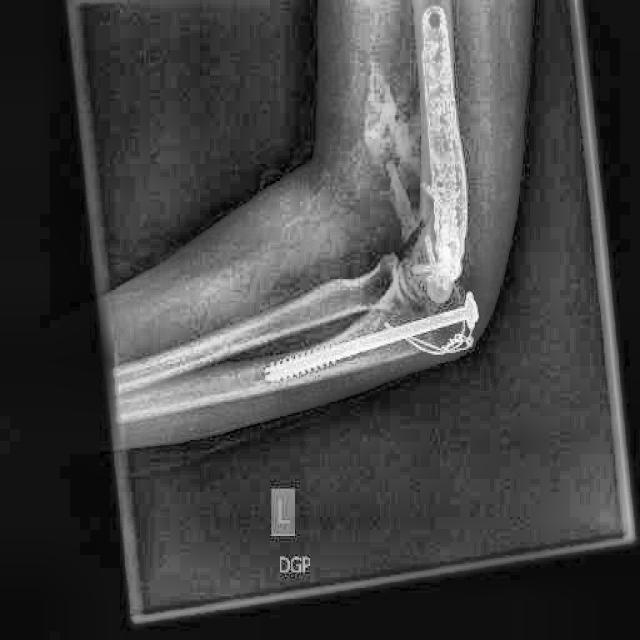elbow positive: (373, 113, 433, 259)
